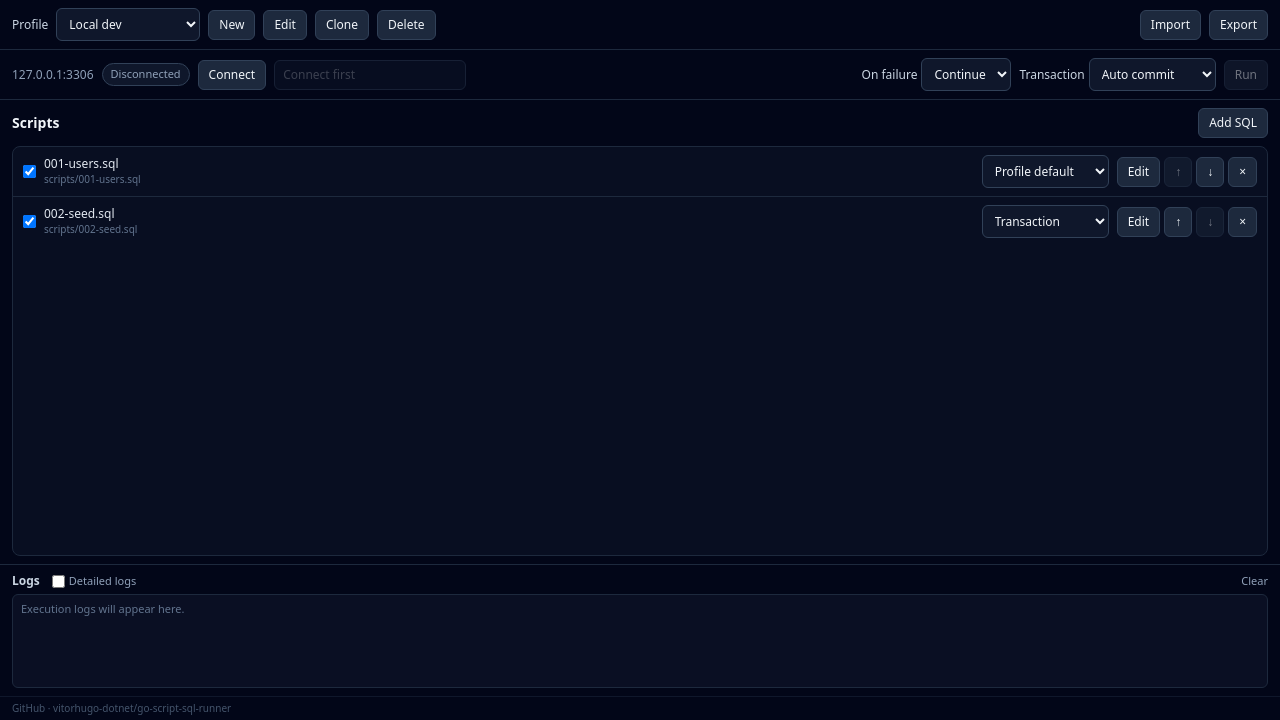
main runner workspace › clones the selected profile and selects the returned copy
expect the text "001-users.sql" is shown: met, box top-left (44, 155), bottom-right (118, 172)
Click the button "Clone" at [342, 24], box top-left (315, 10), bottom-right (369, 40)
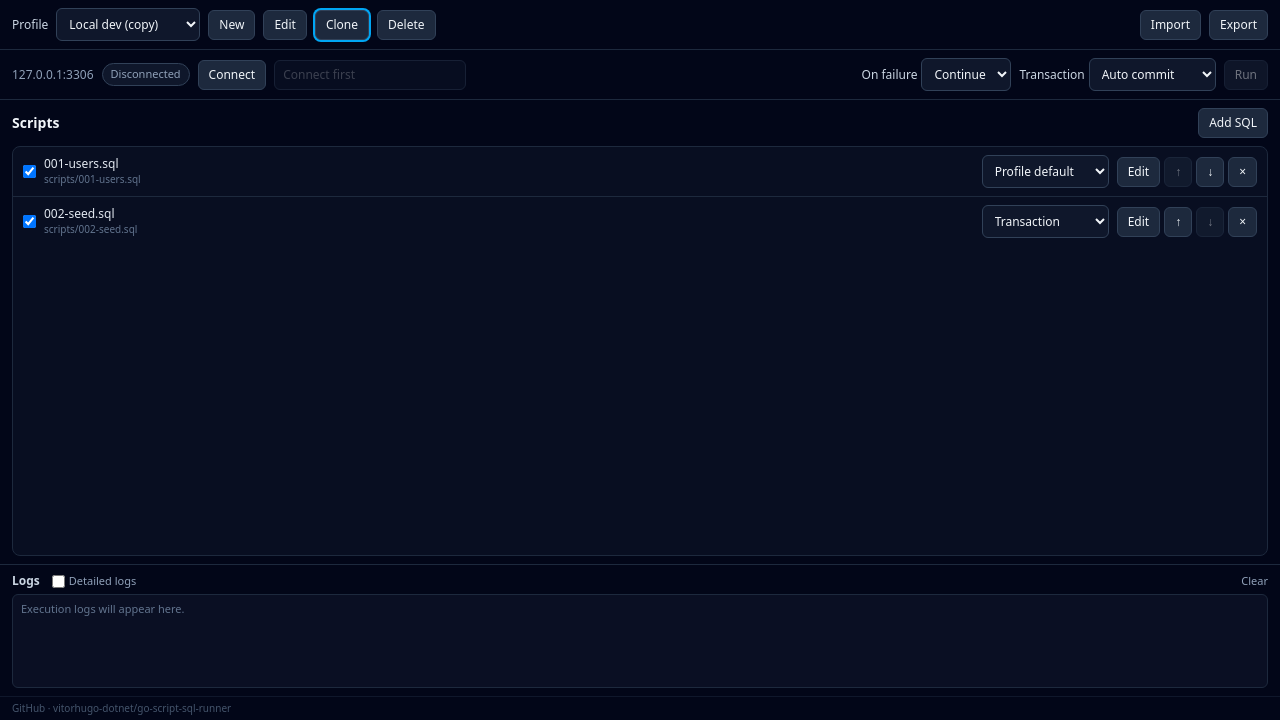
expect the dropdown labelled "Profile" shows "Local dev (copy)": met, box top-left (56, 8), bottom-right (200, 41)
